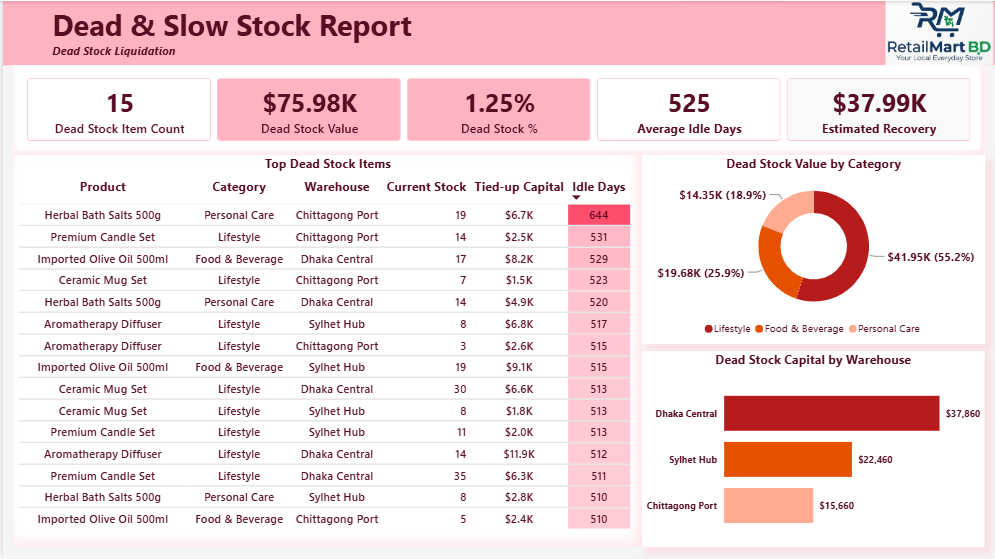

This screenshot's page, from the dashboard's own definition file:
{"tool":"powerbi","page":{"name":"Dead & Slow Stock Report","canvas":[1280,720],"ordinal":2},"visuals":[{"type":"textbox","box":[0,0,1280,82.6],"z":0},{"type":"image","box":[1137.1,0,142.9,82.6],"z":1000},{"type":"tableEx","title":"Top Dead Stock Items","fields":{"Values":["dim_product.product_name","dim_product.category","dim_warehouse.warehouse_name","Sum(vw_stock_aging.current_stock)","Sum(vw_stock_aging.tied_up_capital)","Sum(vw_stock_aging.days_since_last_sale)"]},"box":[14.2,198.7,810.3,505.8],"z":2000},{"type":"donutChart","title":"Dead Stock Value by Category","fields":{"Category":["vw_stock_aging.category"],"Y":["_Measures.Dead Stock Capital"]},"box":[824.4,198.2,443.2,243.6],"z":3000},{"type":"cardVisual","fields":{"Data":["_Measures.Dead Stock Item Count","_Measures.Dead Stock Value","_Measures.Dead Stock %","_Measures.Average Idle Days","_Measures.Estimated Recovery (50%)"]},"box":[14.3,82.6,1253,115.9],"z":4000},{"type":"clusteredBarChart","title":"Dead Stock Capital by Warehouse","fields":{"Category":["vw_stock_aging.warehouse_name"],"Y":["_Measures.Dead Stock Value"]},"box":[824.4,451.4,441.8,253.2],"z":4001}]}

Visuals, with their boxes in screenshot pixels (x1, y1, x2, y2), scaled from the page's 1280x720 canvas onto the 995x559 screenshot:
textbox: {"x1": 0, "y1": 0, "x2": 994, "y2": 64}
image: {"x1": 884, "y1": 0, "x2": 994, "y2": 64}
"Top Dead Stock Items" tableEx: {"x1": 11, "y1": 154, "x2": 641, "y2": 547}
"Dead Stock Value by Category" donutChart: {"x1": 641, "y1": 154, "x2": 985, "y2": 343}
cardVisual - _Measures.Dead Stock Item Count x _Measures.Dead Stock Value: {"x1": 11, "y1": 64, "x2": 985, "y2": 154}
"Dead Stock Capital by Warehouse" clusteredBarChart: {"x1": 641, "y1": 350, "x2": 984, "y2": 547}
